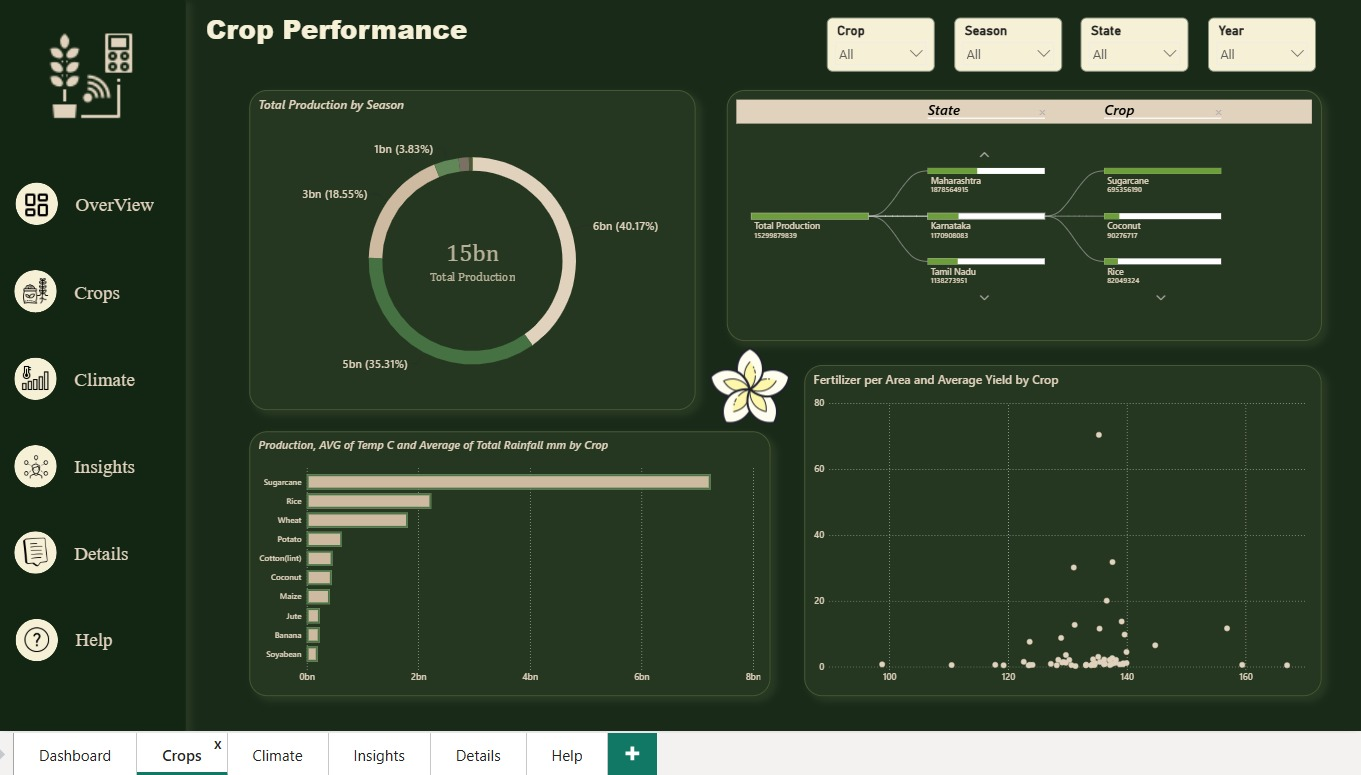

What the dashboard file says about the page in this screenshot:
{"tool":"powerbi","page":{"name":"Crops","canvas":[2275,1219],"ordinal":1},"visuals":[{"type":"shape","box":[0,0,312.5,1218.8],"z":0,"group":"g12"},{"type":"shape","box":[28.2,304.2,70.8,70.8],"z":0,"group":"g1"},{"type":"actionButton","box":[124.7,318.8,164,45],"z":0,"group":"g6"},{"type":"shape","box":[27.1,450.4,70.8,70.8],"z":0,"group":"g2"},{"type":"actionButton","box":[123.6,464.4,164,45],"z":0,"group":"g8"},{"type":"shape","box":[27.1,596.7,70.8,70.8],"z":0,"group":"g3"},{"type":"actionButton","box":[123.6,610.4,164,45],"z":0,"group":"g9"},{"type":"clusteredBarChart","title":"Total Production by Crop","fields":{"Category":["cleaned_dataset_final.Crop"],"Y":["Sum(cleaned_dataset_final.Production)"]},"box":[339.6,718.8,947.9,441.7],"z":0},{"type":"shape","box":[27.1,740.8,70.8,70.8],"z":0,"group":"g4"},{"type":"actionButton","box":[123.6,754.2,164,45],"z":0,"group":"g10"},{"type":"shape","box":[27.1,885,70.8,70.8],"z":0,"group":"g5"},{"type":"actionButton","box":[123.6,899.3,164,45],"z":0,"group":"g7"},{"type":"shape","box":[28.5,1031.2,70.8,70.8],"z":0,"group":"g11"},{"type":"shape","box":[339.6,2.1,450,89.6],"z":1000},{"type":"image","box":[62.5,45.8,187.5,160.4],"z":1000,"group":"g12"},{"type":"group","id":"g1","title":"Dashboard B image","box":[28.2,304.2,70.8,70.8],"z":1000,"group":"g6"},{"type":"image","box":[35.6,318.8,54.2,45.8],"z":1000,"group":"g1"},{"type":"group","id":"g2","title":"Crop B image","box":[27.1,450.4,70.8,70.8],"z":1000,"group":"g8"},{"type":"image","box":[34.5,462.2,54,45],"z":1000,"group":"g2"},{"type":"group","id":"g3","title":"Climate B image","box":[27.1,596.7,70.8,70.8],"z":1000,"group":"g9"},{"type":"image","box":[34.5,607.8,54,45.8],"z":1000,"group":"g3"},{"type":"group","id":"g4","title":"Insights B image","box":[27.1,740.8,70.8,70.8],"z":1000,"group":"g10"},{"type":"image","box":[34.5,753.3,56,48],"z":1000,"group":"g4"},{"type":"group","id":"g5","title":"Details B image","box":[27.1,885,70.8,70.8],"z":1000,"group":"g7"},{"type":"image","box":[27.1,891.2,70.8,56.2],"z":1000,"group":"g5"},{"type":"image","box":[35.9,1043.7,54,45],"z":1000,"group":"g11"},{"type":"group","id":"g6","title":"Dashboard","box":[28.2,304.2,260.5,70.8],"z":2000,"group":"g12"},{"type":"cardVisual","fields":{"Data":["cleaned_dataset_final.Total Production"]},"box":[643.8,387.5,215.6,120],"z":2000},{"type":"actionButton","box":[124.3,1043.7,164,45],"z":2000,"group":"g11"},{"type":"scatterChart","fields":{"Category":["cleaned_dataset_final.Crop"],"X":["cleaned_dataset_final.Fertilizer per Area"],"Y":["cleaned_dataset_final.Average Yield"]},"box":[1343.8,608.3,891.7,552.1],"z":3000},{"type":"group","id":"g7","title":"Details","box":[27.1,885,262.5,70.8],"z":3000,"group":"g12"},{"type":"decompositionTreeVisual","fields":{"Analyze":["cleaned_dataset_final.Total Production"],"ExplainBy":["cleaned_dataset_final.State","cleaned_dataset_final.Crop"]},"box":[1214.6,150,1020.8,418.8],"z":4000},{"type":"group","id":"g8","title":"Crops","box":[27.1,450.4,262.5,70.8],"z":4000,"group":"g12"},{"type":"donutChart","fields":{"Category":["cleaned_dataset_final.Season"],"Y":["cleaned_dataset_final.Total Production"]},"box":[339.6,150,822.9,533.3],"z":5000},{"type":"group","id":"g9","title":"Climate","box":[27.1,596.7,262.5,68.8],"z":5000,"group":"g12"},{"type":"image","box":[1168.8,562.5,168.8,166.7],"z":6000},{"type":"group","id":"g10","title":"Insights","box":[27.1,740.8,262.5,68.8],"z":6000,"group":"g12"},{"type":"slicer","fields":{"Values":["cleaned_dataset_final.Year"]},"box":[1944.6,28,180,90],"z":7000},{"type":"group","id":"g11","title":"Help B image","box":[28.5,1031.2,259.8,70.8],"z":7000,"group":"g12"},{"type":"slicer","fields":{"Values":["cleaned_dataset_final.State"]},"box":[1732.9,28,180,90],"z":8000},{"type":"slicer","fields":{"Values":["cleaned_dataset_final.Season"]},"box":[1521.2,28,180,90],"z":9000},{"type":"slicer","fields":{"Values":["cleaned_dataset_final.Crop"]},"box":[1309.6,28,180,90],"z":10000},{"type":"group","id":"g12","title":"Side bar","box":[0,0,312.5,1218.8],"z":11000}]}

Visuals, with their boxes on the page's 2275x1219 design canvas (x1, y1, x2, y2). These are canvas units, not pixel positions in the 1361x775 screenshot, which may show the page scaled, cropped or inside an application window:
shape: (0,0,312,1219)
shape: (28,304,99,375)
actionButton: (125,319,289,364)
shape: (27,450,98,521)
actionButton: (124,464,288,509)
shape: (27,597,98,668)
actionButton: (124,610,288,655)
"Total Production by Crop" clusteredBarChart: (340,719,1288,1160)
shape: (27,741,98,812)
actionButton: (124,754,288,799)
shape: (27,885,98,956)
actionButton: (124,899,288,944)
shape: (28,1031,99,1102)
shape: (340,2,790,92)
image: (62,46,250,206)
"Dashboard B image" group: (28,304,99,375)
image: (36,319,90,365)
"Crop B image" group: (27,450,98,521)
image: (34,462,88,507)
"Climate B image" group: (27,597,98,668)
image: (34,608,88,654)
"Insights B image" group: (27,741,98,812)
image: (34,753,90,801)
"Details B image" group: (27,885,98,956)
image: (27,891,98,947)
image: (36,1044,90,1089)
"Dashboard" group: (28,304,289,375)
cardVisual - cleaned_dataset_final.Total Production: (644,388,859,508)
actionButton: (124,1044,288,1089)
scatterChart - cleaned_dataset_final.Crop x cleaned_dataset_final.Fertilizer per Area: (1344,608,2236,1160)
"Details" group: (27,885,290,956)
decompositionTreeVisual - cleaned_dataset_final.Total Production x cleaned_dataset_final.State: (1215,150,2235,569)
"Crops" group: (27,450,290,521)
donutChart - cleaned_dataset_final.Season x cleaned_dataset_final.Total Production: (340,150,1162,683)
"Climate" group: (27,597,290,666)
image: (1169,562,1338,729)
"Insights" group: (27,741,290,810)
slicer - cleaned_dataset_final.Year: (1945,28,2125,118)
"Help B image" group: (28,1031,288,1102)
slicer - cleaned_dataset_final.State: (1733,28,1913,118)
slicer - cleaned_dataset_final.Season: (1521,28,1701,118)
slicer - cleaned_dataset_final.Crop: (1310,28,1490,118)
"Side bar" group: (0,0,312,1219)
